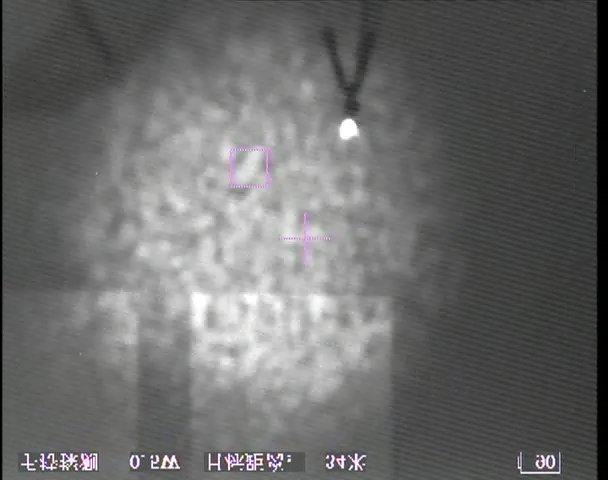my: (336, 117, 360, 142)
